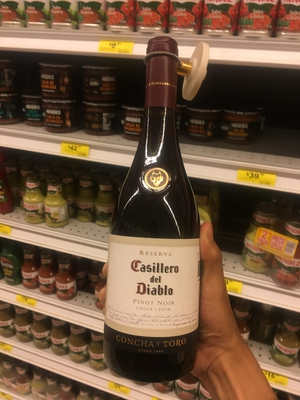casillero del diablo pinot noir: (96, 47, 212, 384)
